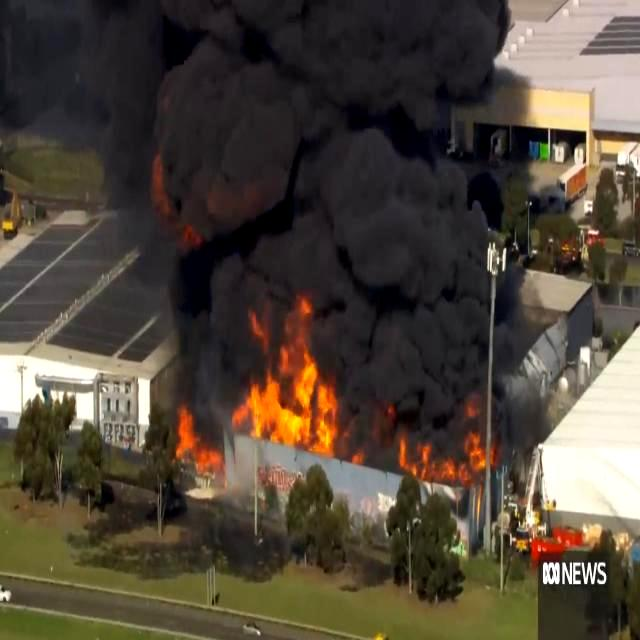fire: (236, 292, 342, 448), (392, 437, 436, 477), (458, 422, 488, 474)
